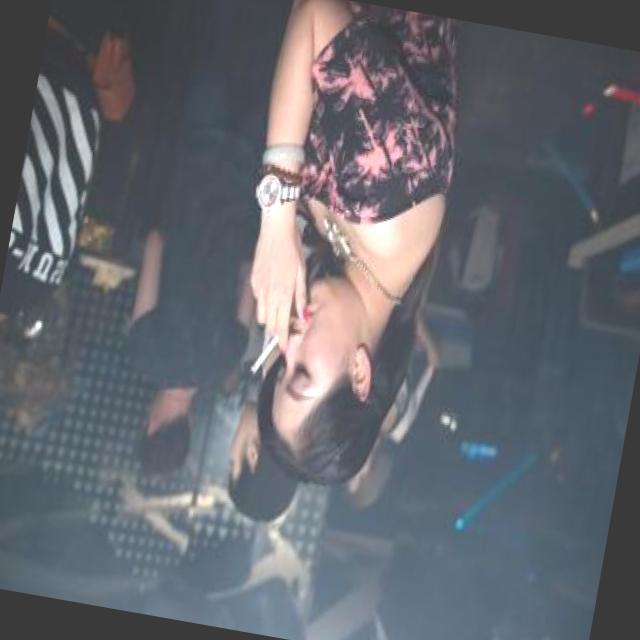cigarette: (245, 320, 289, 388)
